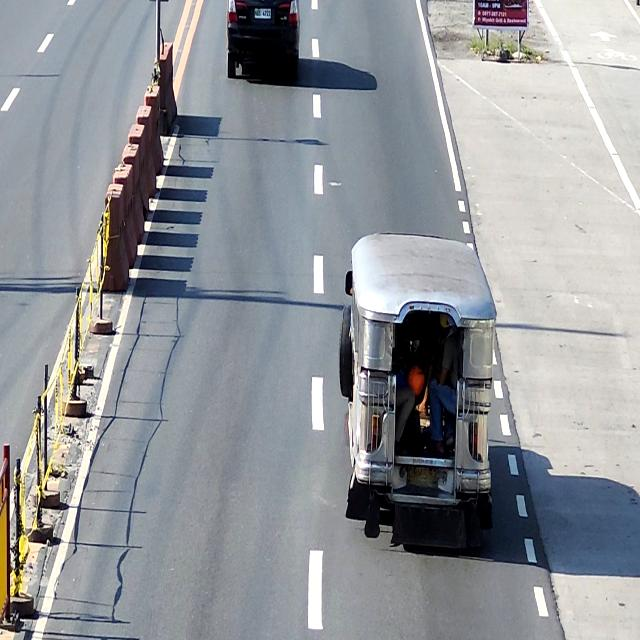Car: (227, 0, 299, 80)
Jeep: (339, 233, 497, 552)
License-Plate: (407, 466, 439, 489), (255, 8, 271, 19)
